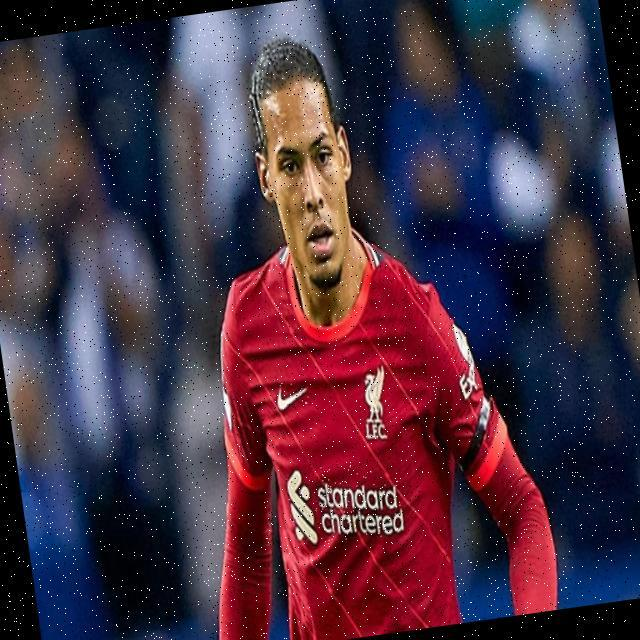Nike: (275, 379, 311, 412)
Standard Chartered: (285, 455, 407, 549)
